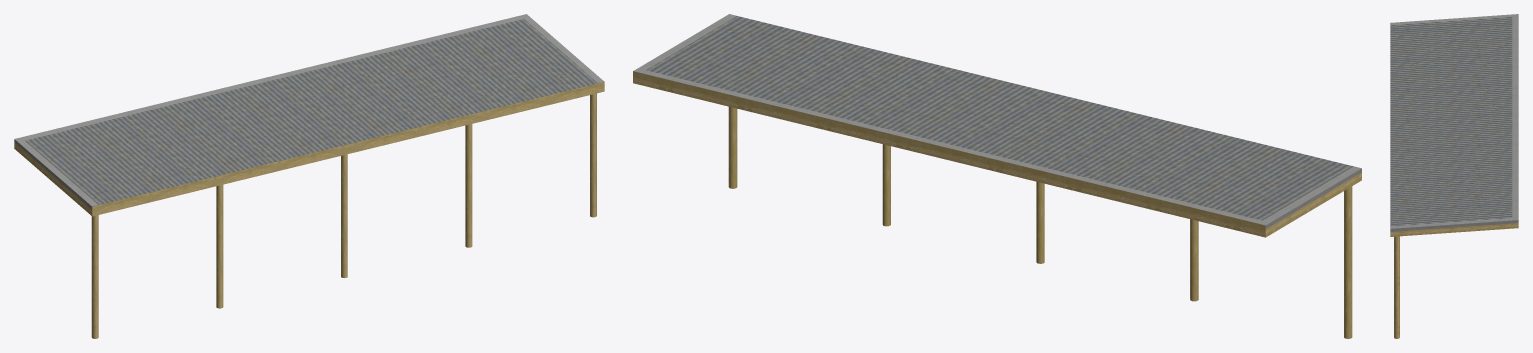
File: terminal-tiny-07-veranda-12x3-cbj_LOD00.gltf
The picture shows the model from 3 angles, left to right: view 1: azimuth 30°, elevation 25°; view 2: azimuth 150°, elevation 25°; view 3: azimuth 270°, elevation 25°; orthographic projection. The views are drawn at different scales.
Visible parts, largest first — view 1: veranda00; view 2: veranda00; view 3: veranda00.
Boxes of the visible parts, bbox=[...] form: veranda00: bbox=[14, 14, 604, 338]; veranda00: bbox=[633, 14, 1361, 338]; veranda00: bbox=[1390, 14, 1518, 338].
Bounding box in the file's own units: 12 × 3.27 × 3.16.
